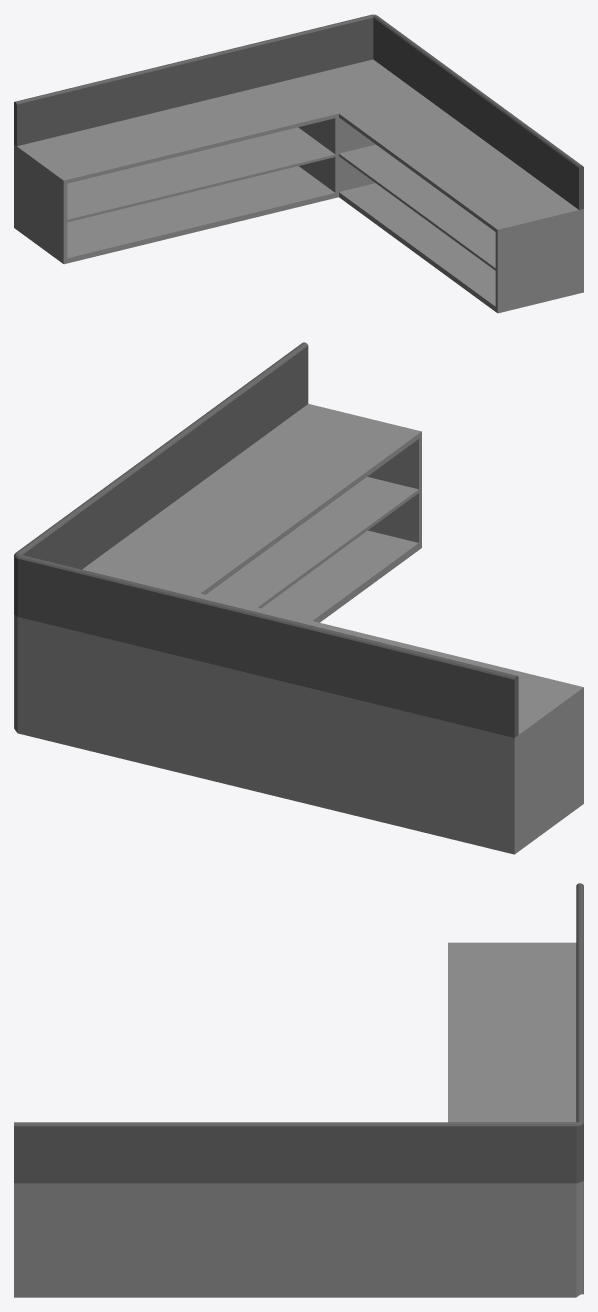
Rendered from Corner Counter.fbx.
The picture shows the model from 3 angles, top to bottom: view 1: azimuth 30°, elevation 25°; view 2: azimuth 150°, elevation 25°; view 3: azimuth 270°, elevation 25°; orthographic projection. The views are drawn at different scales.
Parts seen in each view (by area): view 1: Corner Counter; view 2: Corner Counter; view 3: Corner Counter.
Boxes of the visible parts, <box> form: Corner Counter: <box>14,14,583,313</box>; Corner Counter: <box>14,342,583,854</box>; Corner Counter: <box>14,883,583,1297</box>.
Bounding box in the file's own units: 279 × 93.64 × 279.
